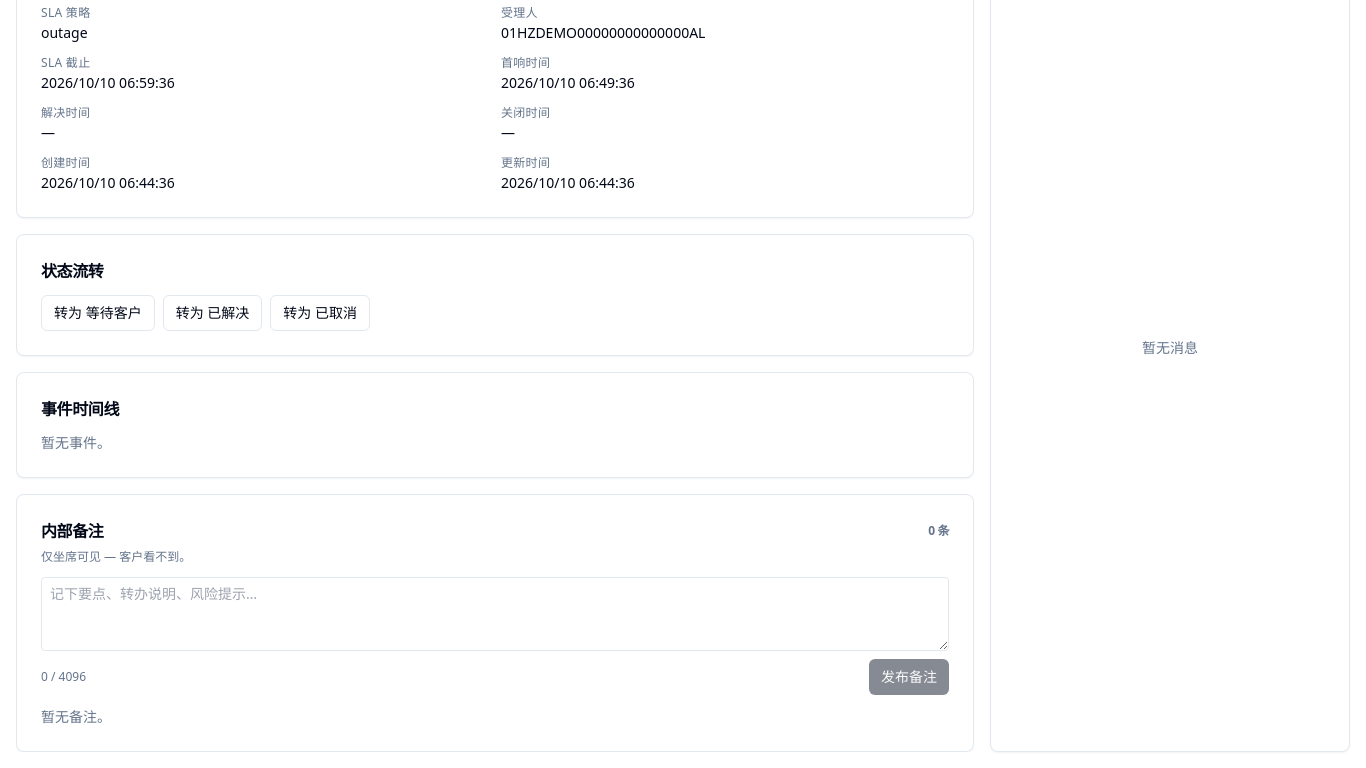
Test: AdminTicketDetailPage notes panel (Tier 2 Task 2.6) › surfaces the API error if the POST fails
(page scrolled)
Type "this should fail" into the text box with test id "ticket-notes-input" at (495, 614), box [41, 577, 949, 651]
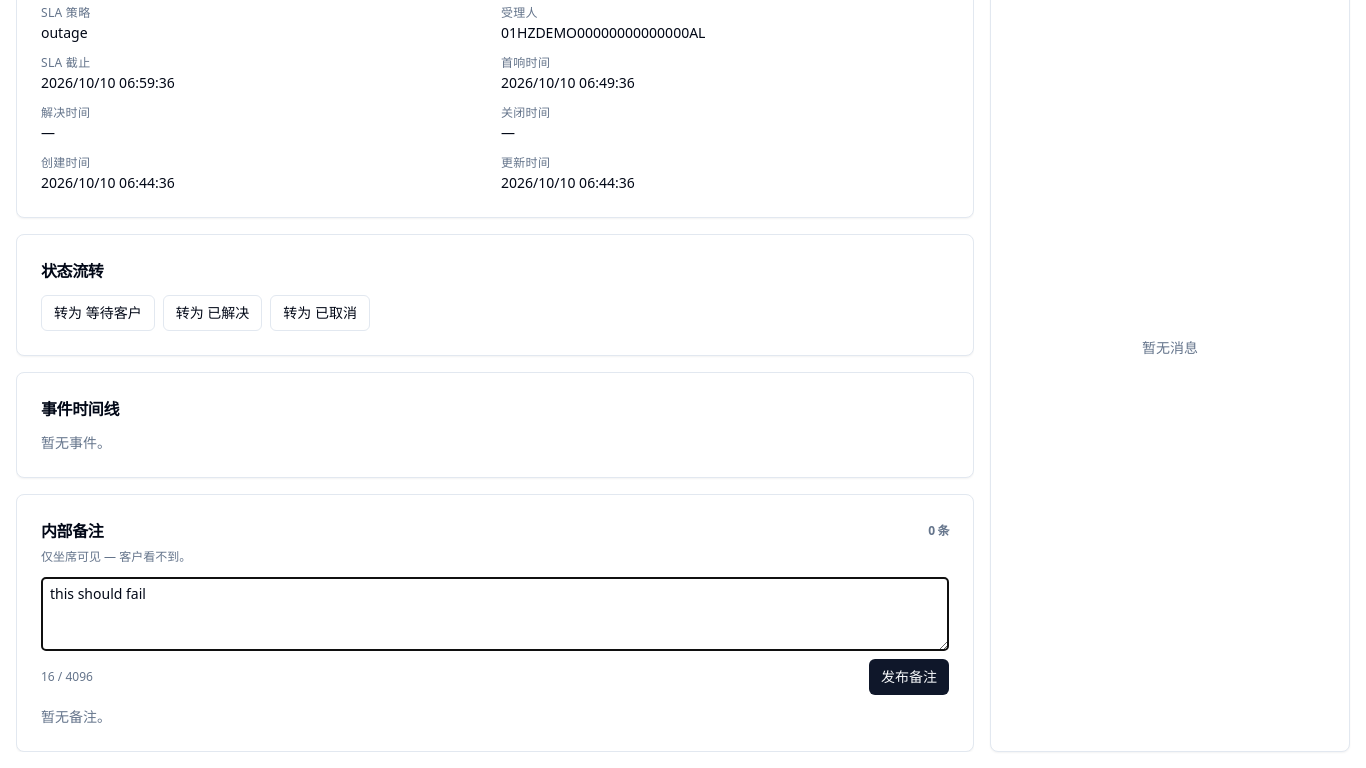
Expected: the button with test id "ticket-notes-submit" is enabled
Click the button with test id "ticket-notes-submit" at (909, 677), box [869, 659, 949, 695]
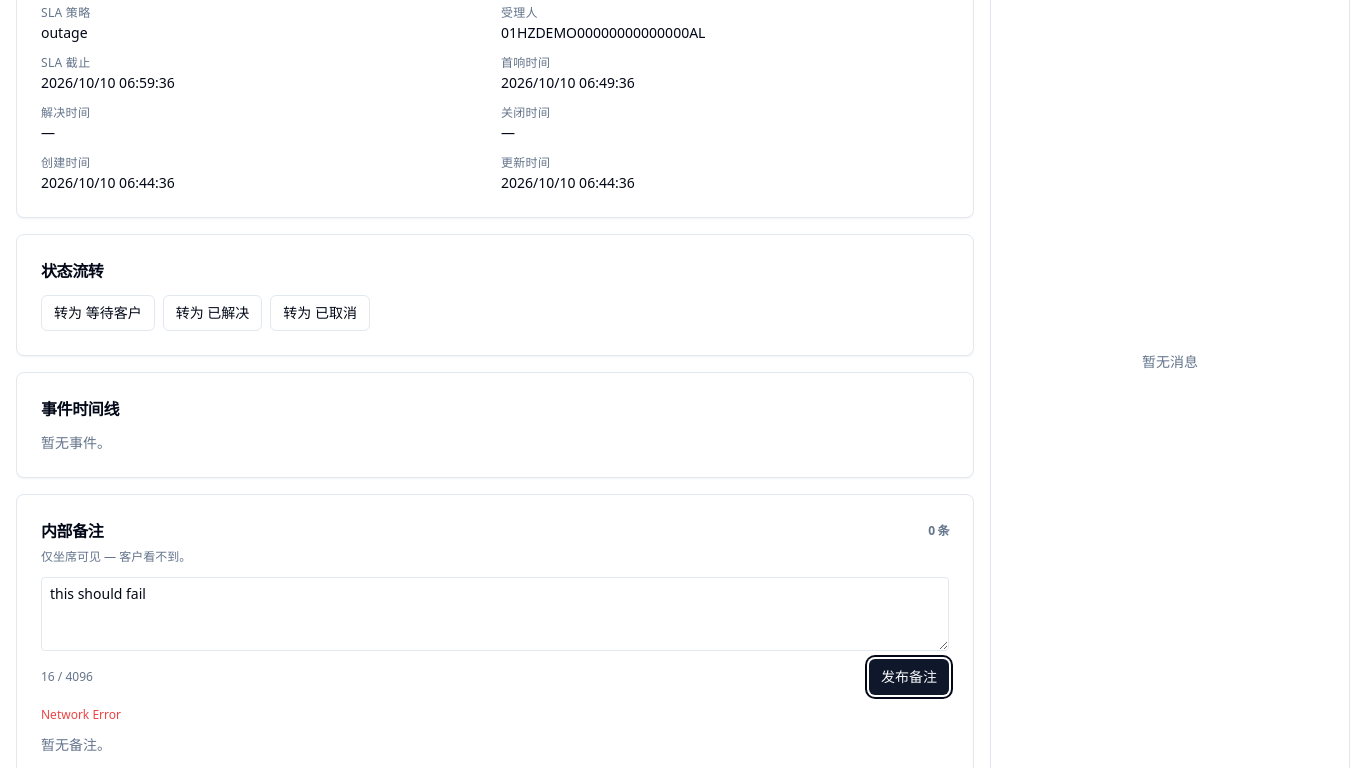
Expected: the message with test id "ticket-notes-error" reads "Network Error", [41, 706, 121, 723]
